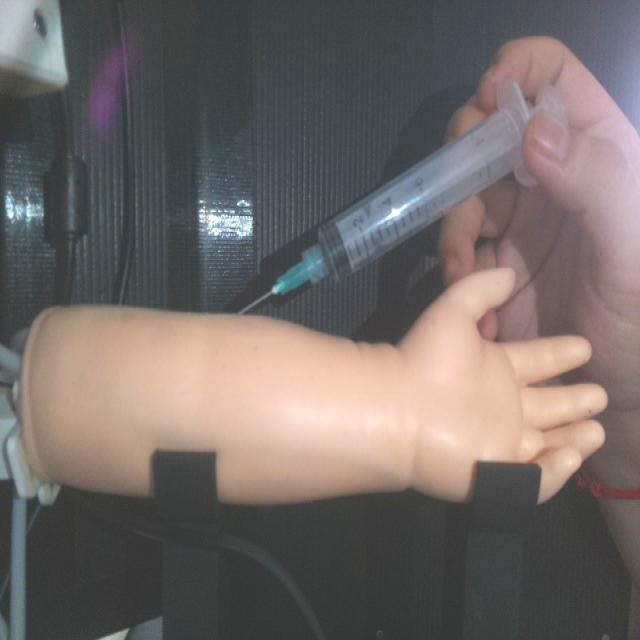Above 30 degrees: (231, 74, 564, 318)
